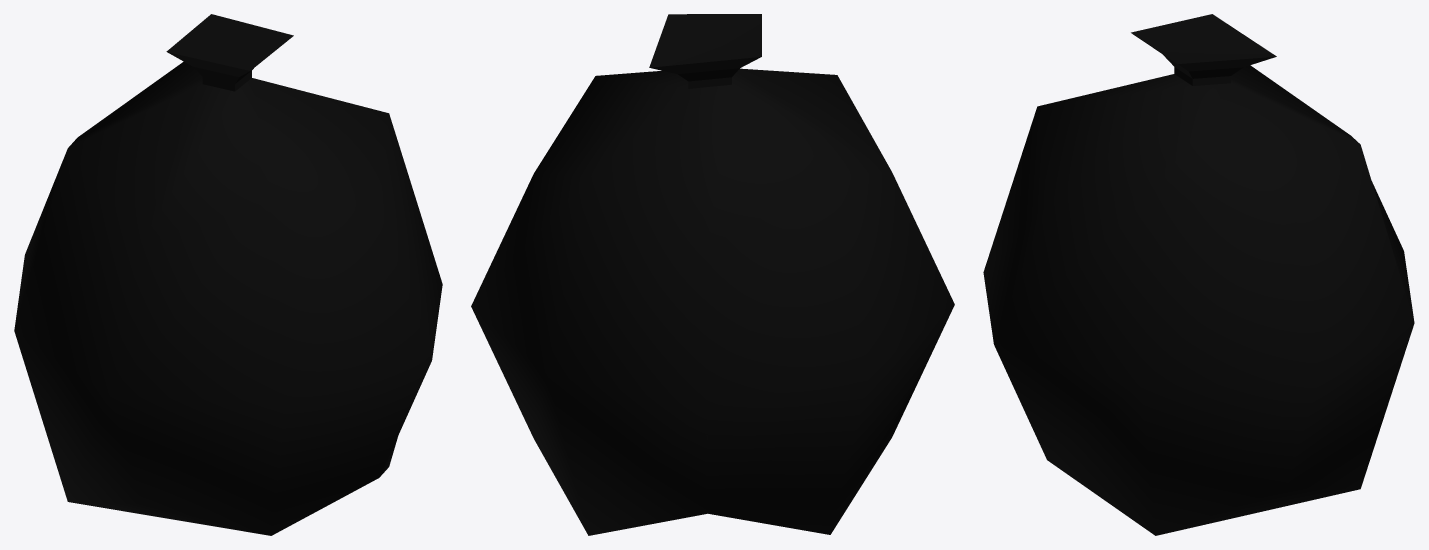
Rendered from Eden_trash_1.fbx.
3 views of the same model, side by side, from view 1: azimuth 30°, elevation 25°; view 2: azimuth 150°, elevation 25°; view 3: azimuth 270°, elevation 25° (orthographic). The views are drawn at different scales.
Parts seen in each view (by area): view 1: pCube38; view 2: pCube38; view 3: pCube38.
Boxes of the visible parts, bbox=[...] form: pCube38: bbox=[14, 14, 442, 535]; pCube38: bbox=[471, 14, 954, 535]; pCube38: bbox=[983, 14, 1414, 535].
Size of the model in its own units: 0.0239 by 0.0289 by 0.0248.
Materials: 1 (1 with a texture image).
